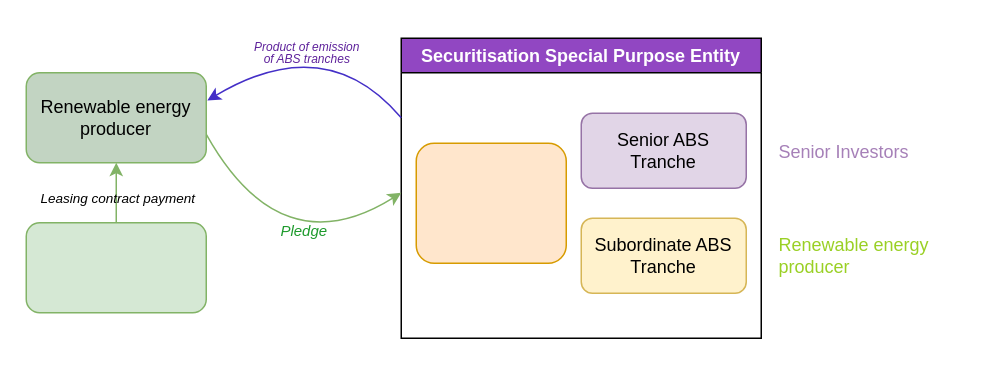
Some shapes in this 983 by 365 pixel diagram are drawn without their labels. Each missing label, with the centre of its shape:
"Clients equipped with solar panels" belongs at pixel 115 267.
"Pledged leasing contracts" belongs at pixel 490 202.
